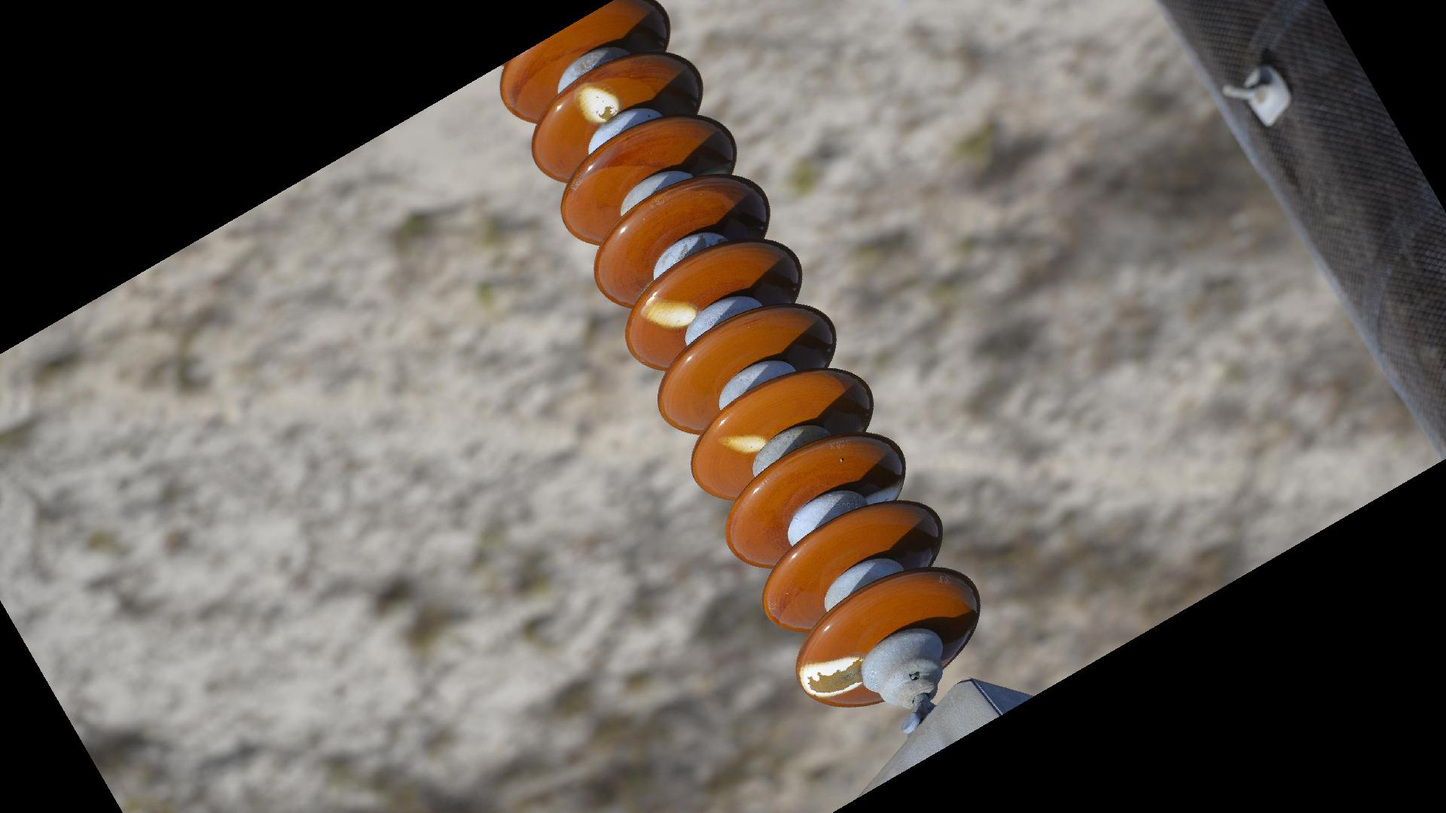insulator: (495, 1, 987, 717)
insulator_flashover: (797, 653, 865, 700), (574, 81, 623, 127), (638, 294, 699, 330), (715, 430, 769, 456)
